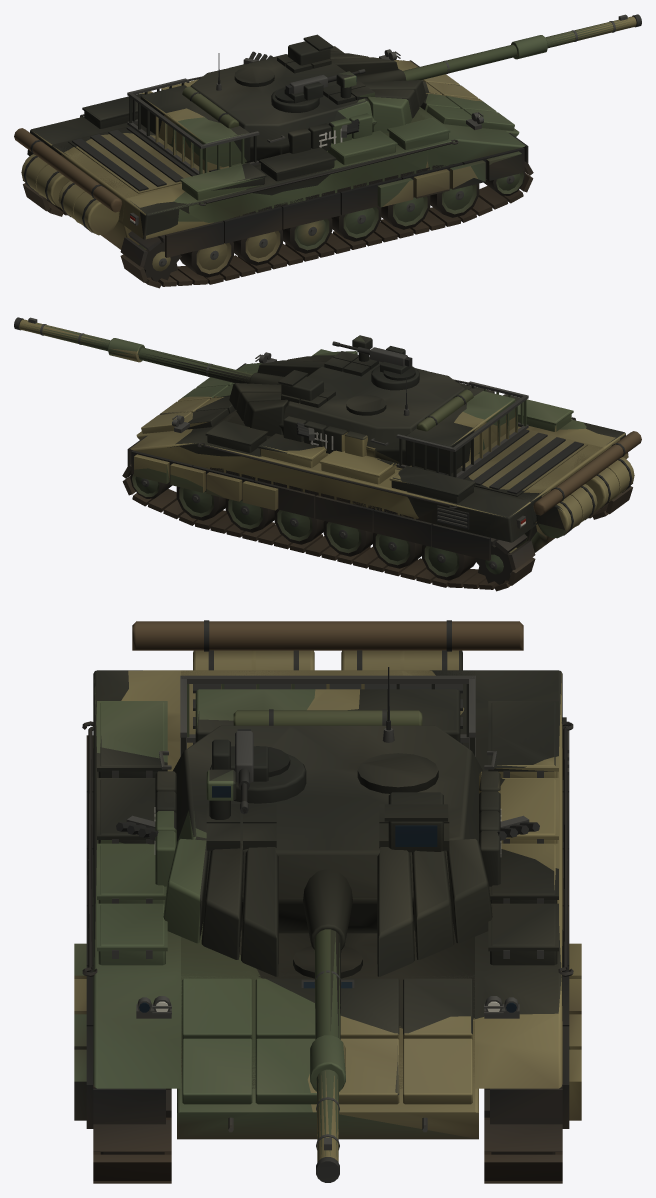
The picture shows the model from 3 angles, top to bottom: view 1: azimuth 30°, elevation 25°; view 2: azimuth 150°, elevation 25°; view 3: azimuth 270°, elevation 25°; orthographic projection. The views are drawn at different scales.
Parts seen in each view (by area): view 1: hull, turret, gun, wheel_R5, wheel_R2, wheel_R3, wheel_R4, wheel_R1, wheel_R0, sprocket_R, idler_R; view 2: hull, turret, gun, wheel_L5, wheel_L2, wheel_L3, wheel_L4, wheel_L1, wheel_L0, sprocket_L, idler_L; view 3: hull, turret, gun.
Boxes of the visible parts, bbox=[...] form: hull: bbox=[14, 46, 533, 288]; turret: bbox=[127, 34, 426, 174]; gun: bbox=[357, 14, 641, 82]; wheel_R5: bbox=[180, 242, 233, 277]; wheel_R2: bbox=[331, 206, 381, 241]; wheel_R3: bbox=[282, 218, 332, 253]; wheel_R4: bbox=[233, 230, 282, 265]; wheel_R1: bbox=[381, 195, 430, 229]; wheel_R0: bbox=[430, 183, 479, 217]; sprocket_R: bbox=[139, 242, 181, 281]; idler_R: bbox=[483, 170, 525, 195]; hull: bbox=[122, 349, 641, 591]; turret: bbox=[229, 335, 528, 477]; gun: bbox=[14, 317, 283, 384]; wheel_L5: bbox=[422, 545, 475, 580]; wheel_L2: bbox=[274, 509, 324, 544]; wheel_L3: bbox=[323, 521, 373, 556]; wheel_L4: bbox=[373, 533, 422, 568]; wheel_L1: bbox=[225, 498, 274, 532]; wheel_L0: bbox=[176, 486, 225, 520]; sprocket_L: bbox=[474, 545, 516, 584]; idler_L: bbox=[130, 473, 172, 498]; hull: bbox=[74, 620, 581, 1183]; turret: bbox=[116, 667, 539, 976]; gun: bbox=[303, 868, 352, 1182].
Size of the model in its own units: 10.02 by 2.58 by 3.76.
